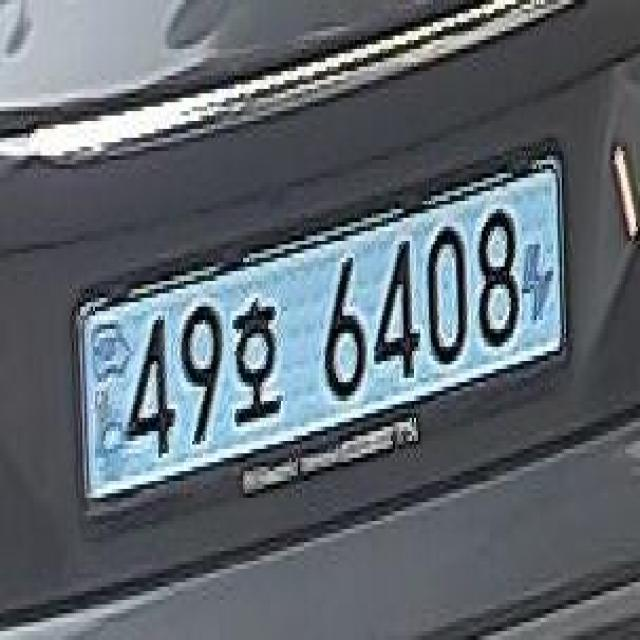EV_plate: (69, 152, 576, 536)
